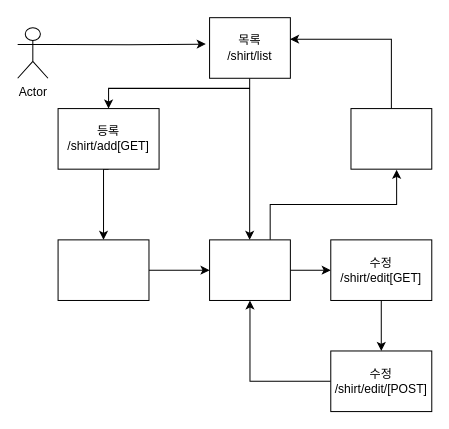
Image size: 449x429. Some labels were removed from this diagram. The centre of each missing label's shape, as x and y in pixels:
"등록 /shirt/add[POST]" goes at (x=103, y=269).
"삭제 /shirt/delete" goes at (x=391, y=138).
"상세 /shirt/detail" goes at (x=249, y=269).
